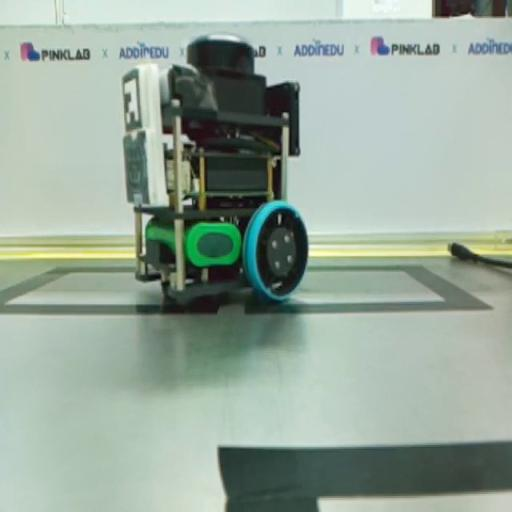pinky_63: (122, 33, 308, 305)
